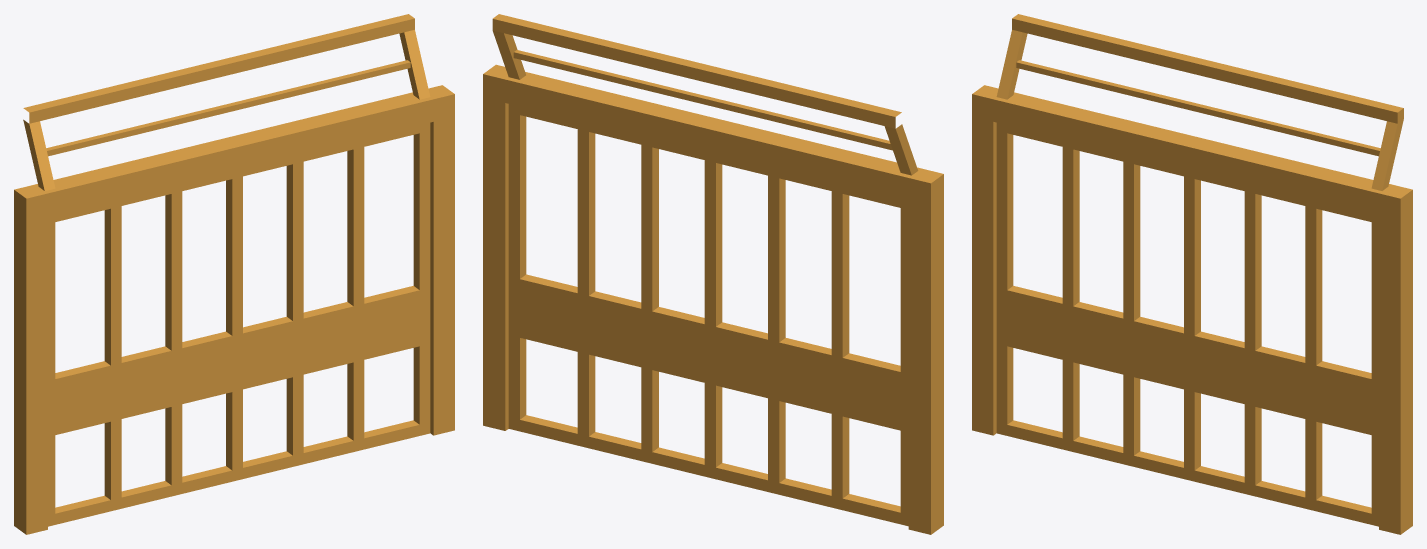
Rendered from military-military-gate.glb.
The picture shows the model from 3 angles, left to right: view 1: azimuth 30°, elevation 25°; view 2: azimuth 150°, elevation 25°; view 3: azimuth 330°, elevation 25°; orthographic projection. The views are drawn at different scales.
Visible parts, largest first — view 1: military-gate-main, military-gate-frame; view 2: military-gate-main, military-gate-frame; view 3: military-gate-main, military-gate-frame.
Part boxes in pixels (x1,y1,x2,y2): military-gate-main: [48, 122, 430, 526]; military-gate-frame: [14, 14, 454, 534]; military-gate-main: [508, 104, 908, 526]; military-gate-frame: [483, 14, 943, 534]; military-gate-main: [996, 122, 1378, 526]; military-gate-frame: [972, 14, 1412, 534].
Bounding box in the file's own units: 4 × 3.6 × 0.4.
